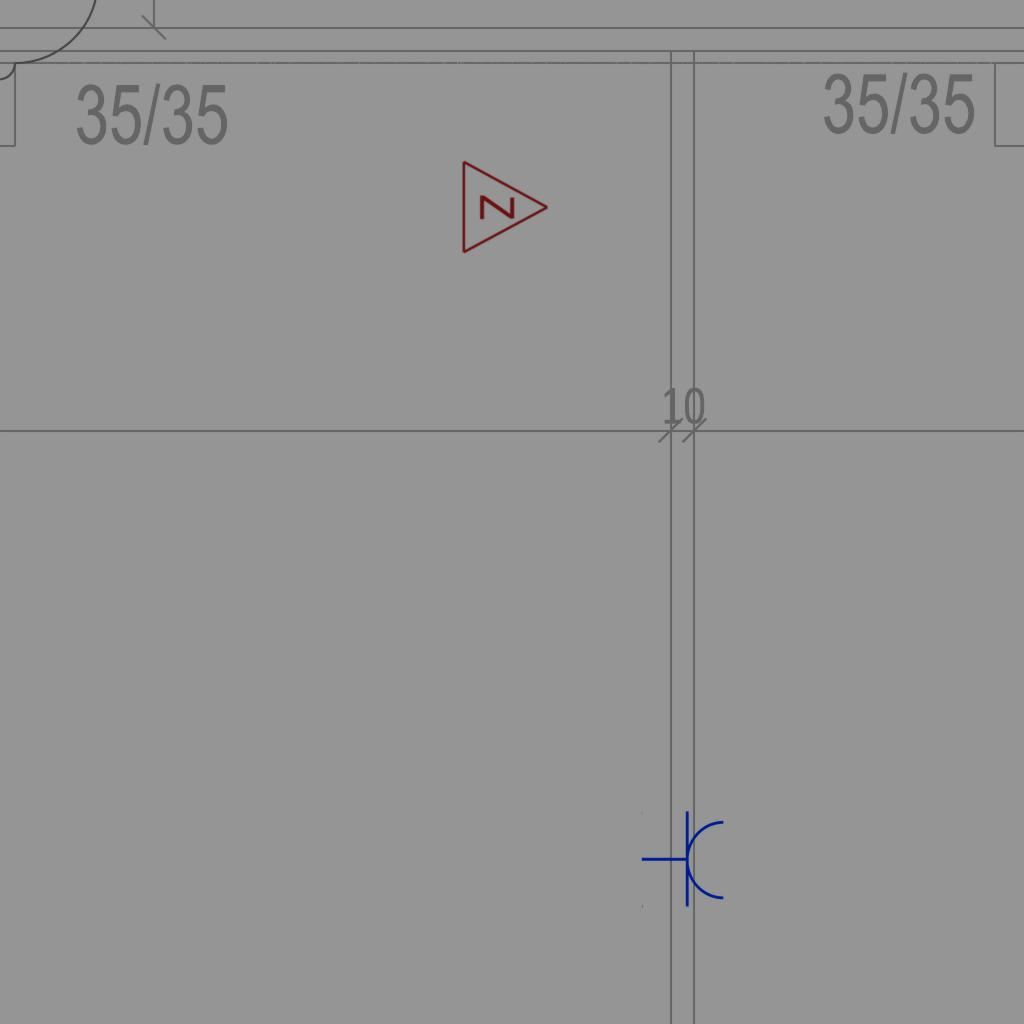Schukosteckdose_einfach: (641, 810, 728, 910)
Zimmersignalleuchte: (455, 157, 555, 255)
